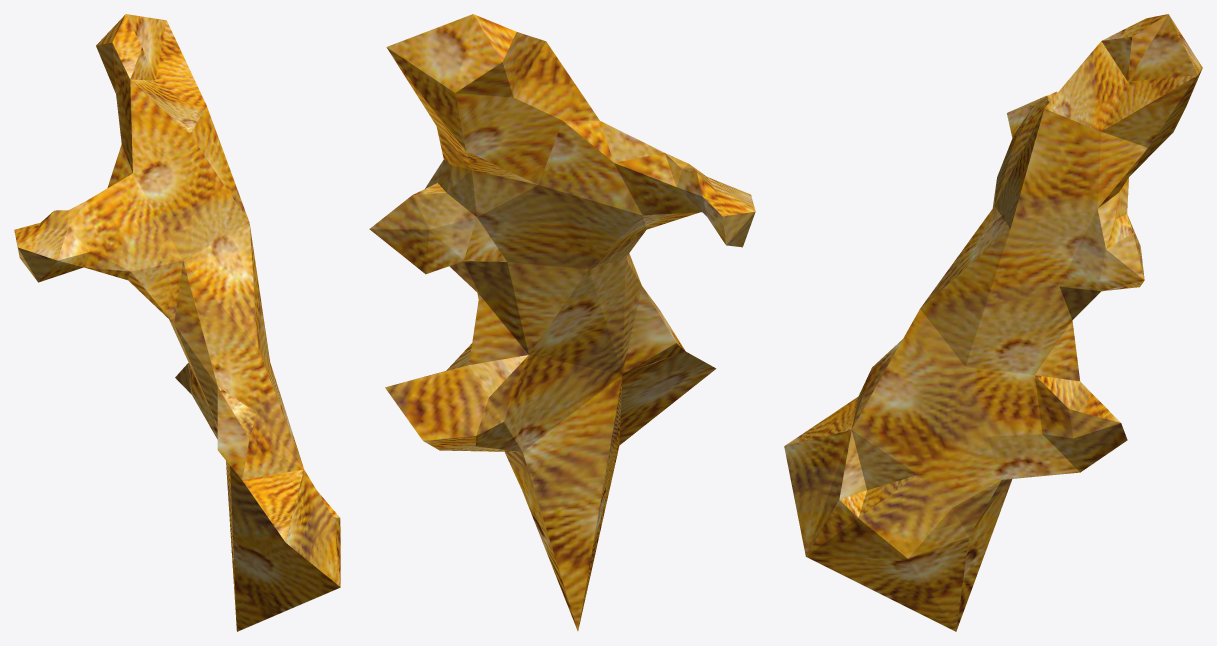
File: Coral1.FBX
The picture shows the model from 3 angles, left to right: view 1: azimuth 30°, elevation 25°; view 2: azimuth 150°, elevation 25°; view 3: azimuth 270°, elevation 25°; orthographic projection. The views are drawn at different scales.
Parts seen in each view (by area): view 1: default; view 2: default; view 3: default.
Boxes of the visible parts, left/top/right/bottom form: default: left=14, top=14, right=340, bottom=631; default: left=369, top=14, right=755, bottom=630; default: left=784, top=14, right=1202, bottom=631.
Bounding box in the file's own units: 0.3353 × 0.6951 × 0.4325.
